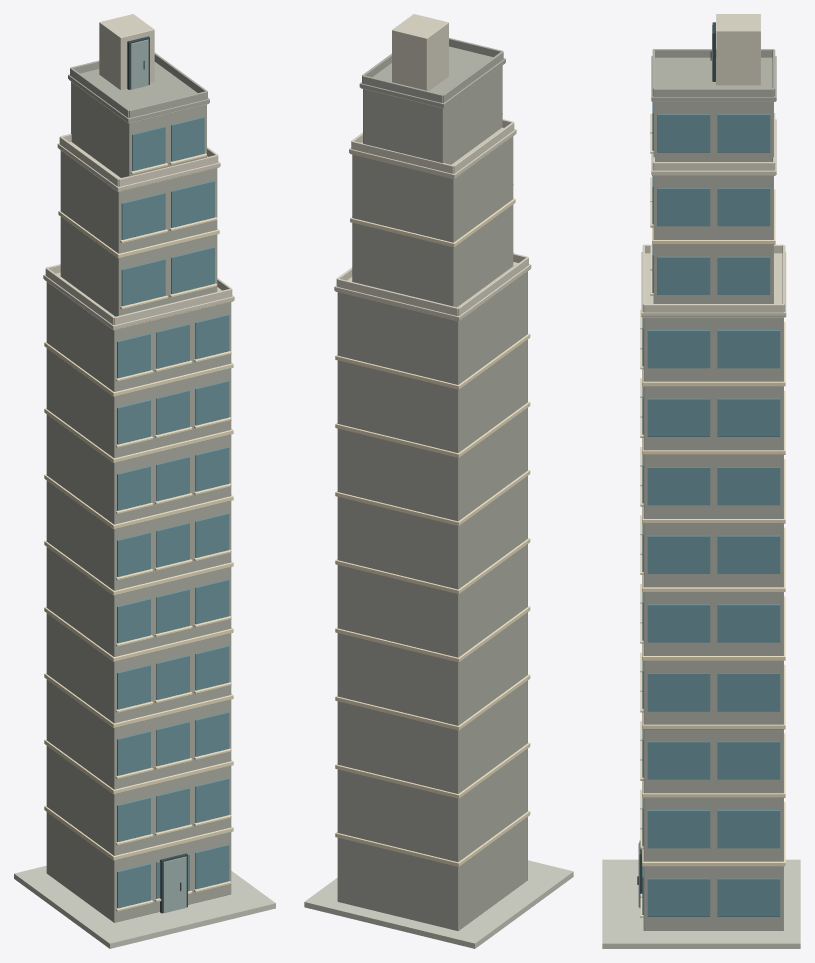
The model's file is large-2x2-pencil-tower-02.glb.
3 views of the same model, side by side, from view 1: azimuth 30°, elevation 25°; view 2: azimuth 150°, elevation 25°; view 3: azimuth 270°, elevation 25° (orthographic). The views are drawn at different scales.
Parts seen in each view (by area): view 1: Storey_08, Storey_03, Storey_04, Storey_05, Storey_09, Storey_07, Storey_02, Storey_06, Storey_01, LotPlinth, Storey_11, Storey_10 (+54 smaller); view 2: Storey_01, Storey_08, Storey_05, Storey_09, Storey_02, Storey_04, Storey_03, Storey_07, Storey_06, Storey_11, Storey_10, Storey_12 (+20 smaller); view 3: LotPlinth, Storey_03, Storey_01, Storey_04, Storey_08, Storey_09, Storey_06, Storey_05, Storey_07, Storey_02, Storey_11, Storey_12 (+42 smaller).
Boxes of the visible parts, x1,y1,x2,y2 form: Storey_08: [46, 348, 231, 458]; Storey_03: [46, 679, 231, 789]; Storey_04: [46, 613, 231, 723]; Storey_05: [46, 547, 231, 656]; Storey_09: [46, 282, 231, 391]; Storey_07: [46, 414, 231, 524]; Storey_02: [46, 746, 231, 855]; Storey_06: [46, 481, 231, 590]; Storey_01: [46, 812, 231, 922]; LotPlinth: [14, 865, 275, 948]; Storey_11: [60, 150, 217, 253]; Storey_10: [60, 217, 217, 316]; Storey_01: [337, 817, 527, 930]; Storey_08: [337, 339, 527, 452]; Storey_05: [337, 544, 527, 657]; Storey_09: [337, 271, 527, 384]; Storey_02: [337, 749, 527, 862]; Storey_04: [337, 612, 527, 725]; Storey_03: [337, 680, 527, 793]; Storey_07: [337, 408, 527, 521]; Storey_06: [337, 476, 527, 589]; Storey_11: [352, 136, 513, 242]; Storey_10: [352, 205, 513, 307]; Storey_12: [363, 65, 502, 164]; LotPlinth: [602, 859, 800, 948]; Storey_03: [643, 729, 783, 793]; Storey_01: [643, 866, 783, 930]; Storey_04: [643, 660, 783, 724]; Storey_08: [643, 386, 783, 450]; Storey_09: [643, 317, 783, 381]; Storey_06: [643, 523, 783, 587]; Storey_05: [643, 592, 783, 655]; Storey_07: [643, 455, 783, 518]; Storey_02: [643, 798, 783, 861]; Storey_11: [653, 176, 773, 239]; Storey_12: [653, 102, 773, 161].
Bounding box in the file's own units: 8 × 39.34 × 8.
